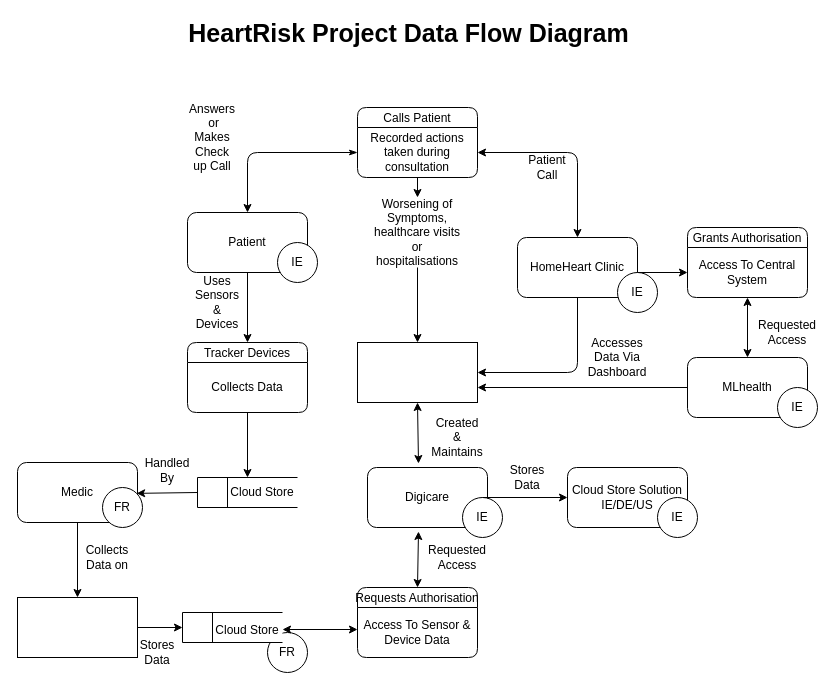
Some shapes in this 835 by 690 pixel diagram are drawn without their labels. The centre of each missing label's shape, as x and y in pixels:
"Blood Pressure Blood Glucose Activity Sleep" goes at (77,627).
"Central System" goes at (417,372).
